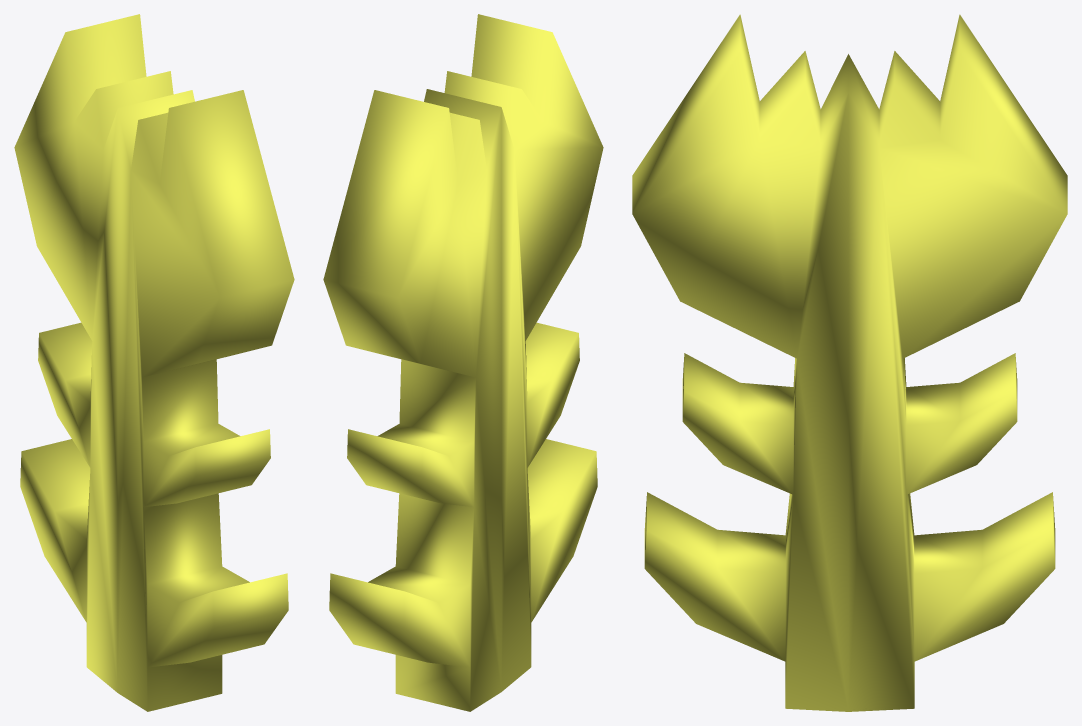
Rendered from Wheat.fbx.
The picture shows the model from 3 angles, left to right: view 1: azimuth 30°, elevation 25°; view 2: azimuth 150°, elevation 25°; view 3: azimuth 270°, elevation 25°; orthographic projection. The views are drawn at different scales.
Visible parts, largest first — view 1: Plane.001; view 2: Plane.001; view 3: Plane.001.
Part boxes in pixels (x1,y1,x2,y2): Plane.001: (14,14,294,711); Plane.001: (323,14,603,711); Plane.001: (632,14,1067,711).
Size of the model in its own units: 26.72 by 213 by 127.
